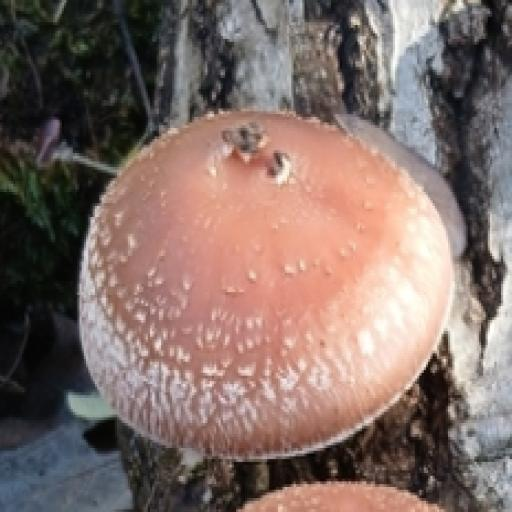Shiitake Mushroom: (51, 84, 477, 497)
